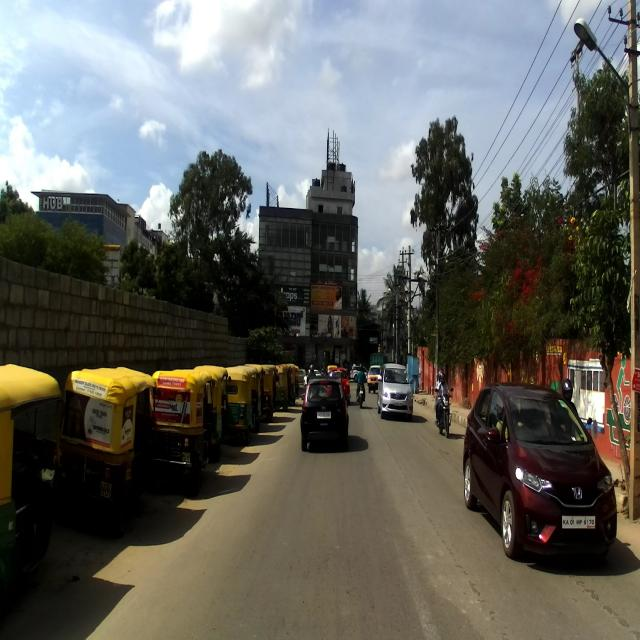autorickshaw: (0, 363, 73, 603), (61, 366, 161, 538), (152, 368, 215, 492), (195, 365, 231, 462), (224, 364, 260, 445), (245, 362, 265, 432), (259, 362, 277, 422), (274, 362, 292, 412)
car: (462, 381, 622, 561), (300, 378, 350, 452), (377, 362, 414, 420)
motorcycle: (434, 386, 453, 438)
